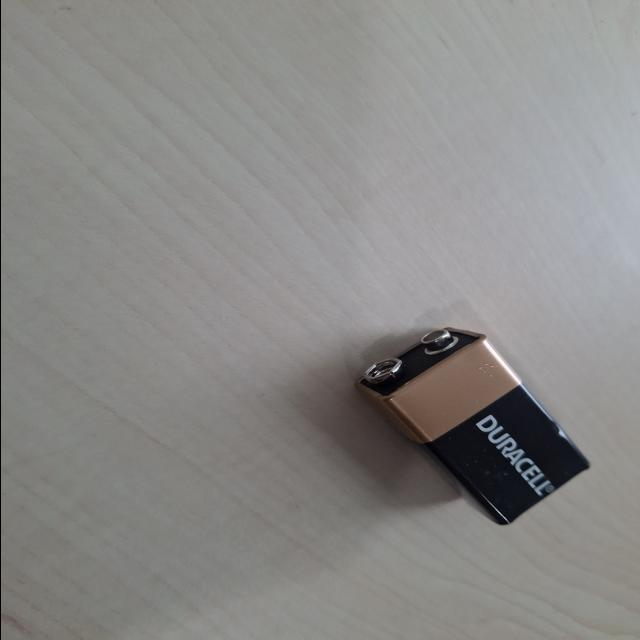9V: (0, 262, 204, 440)
